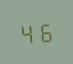four: (19, 21, 35, 44)
six: (36, 20, 52, 42)
